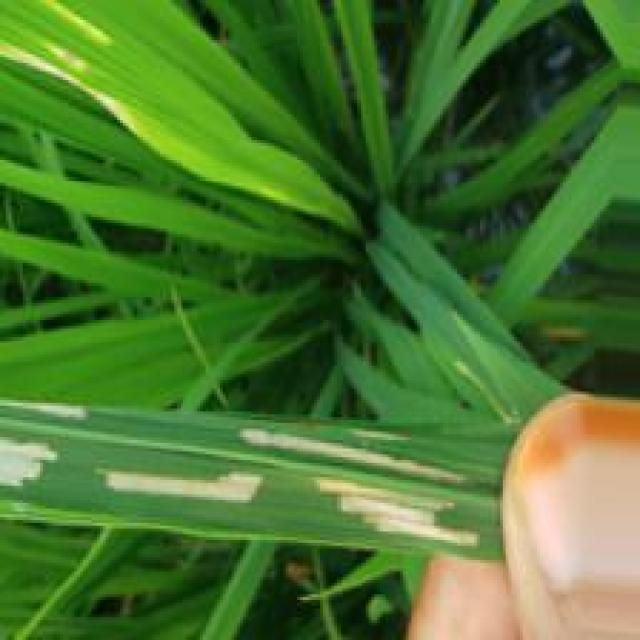Rice_Hispa: (305, 478, 488, 546), (236, 431, 454, 481), (102, 465, 262, 502), (0, 441, 56, 483)
